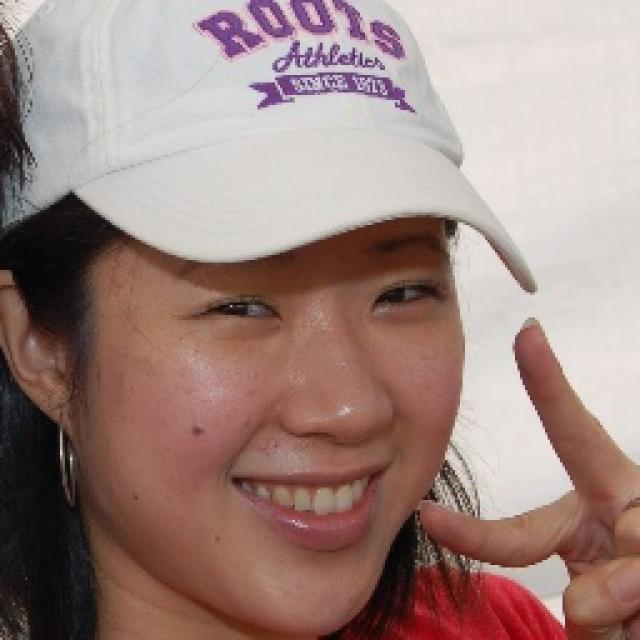earlobe: (0, 270, 74, 426)
